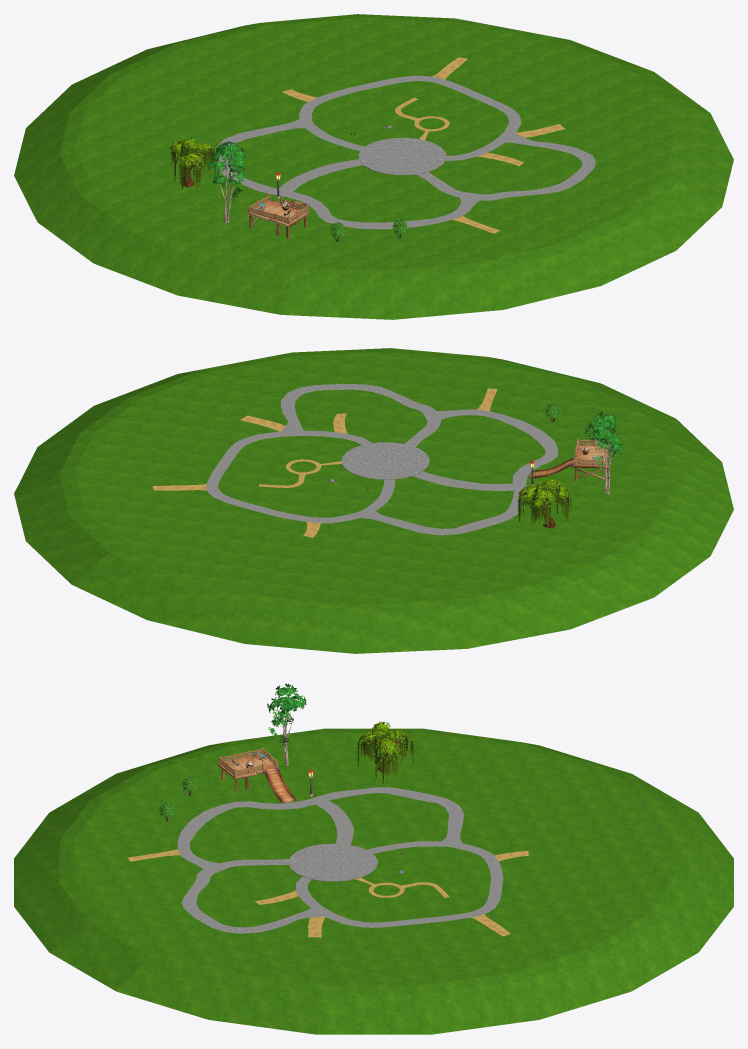
The model's file is Prolecni karneval pod i balon 16. mart.fbx.
3 views of the same model, one above another, from view 1: azimuth 30°, elevation 25°; view 2: azimuth 150°, elevation 25°; view 3: azimuth 270°, elevation 25° (orthographic).
Parts seen in each view (by area): view 1: Staze_i_pod, Balon; view 2: Staze_i_pod, Balon; view 3: Staze_i_pod, Balon.
Boxes of the visible parts, x1=… form: Staze_i_pod: x1=14, y1=14, x2=733, y2=319; Balon: x1=170, y1=138, x2=408, y2=241; Staze_i_pod: x1=14, y1=348, x2=733, y2=653; Balon: x1=517, y1=402, x2=622, y2=528; Staze_i_pod: x1=14, y1=728, x2=733, y2=1034; Balon: x1=158, y1=683, x2=414, y2=821.
Bounding box in the file's own units: 46.28 × 7.47 × 46.28.
Materials: 16 (16 with a texture image).
